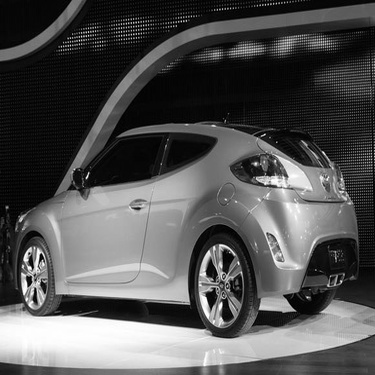car: (4, 101, 373, 340)
